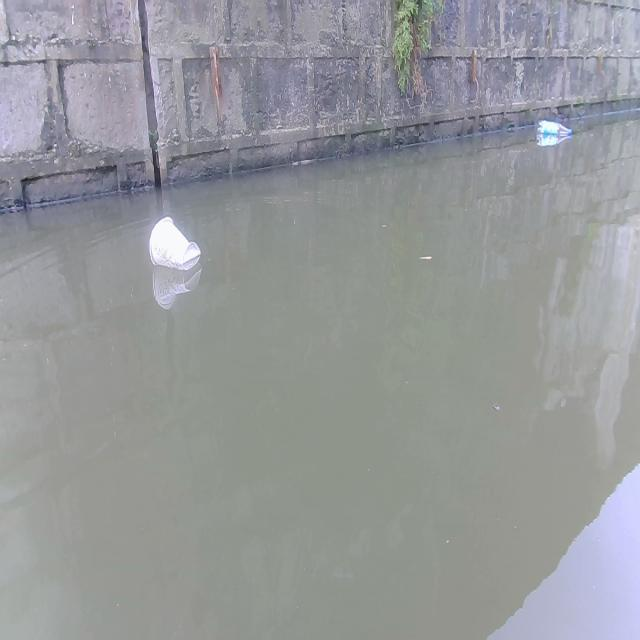bottle: (146, 215, 202, 269), (536, 119, 572, 136)
